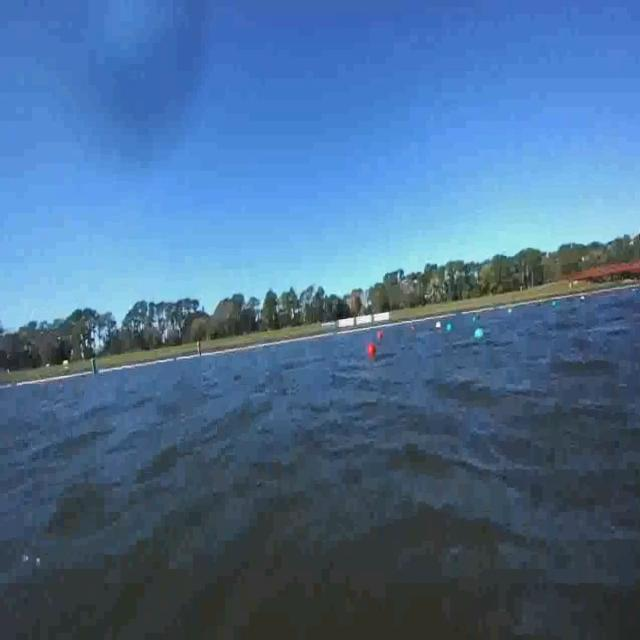green-buoy: (474, 327, 484, 338), (447, 322, 454, 332)
red-buoy: (367, 343, 375, 356)
